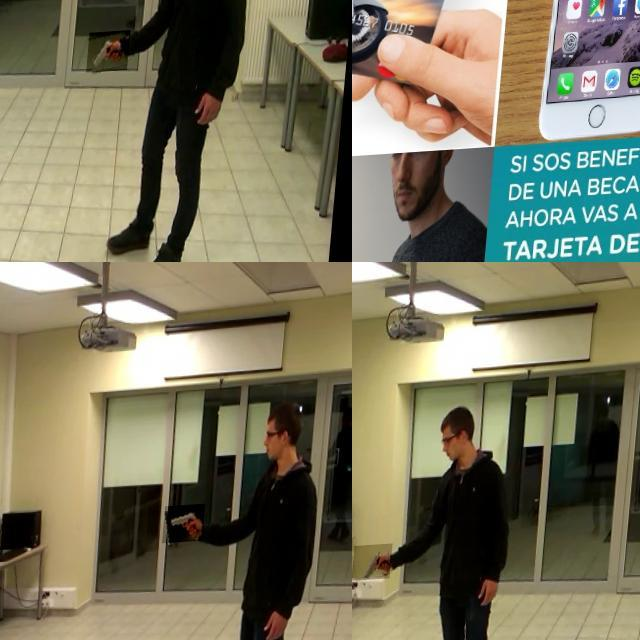gun-knife-thesis - v11 Yolov5 augmented: (94, 36, 138, 78), (170, 507, 212, 546), (359, 545, 400, 582)
